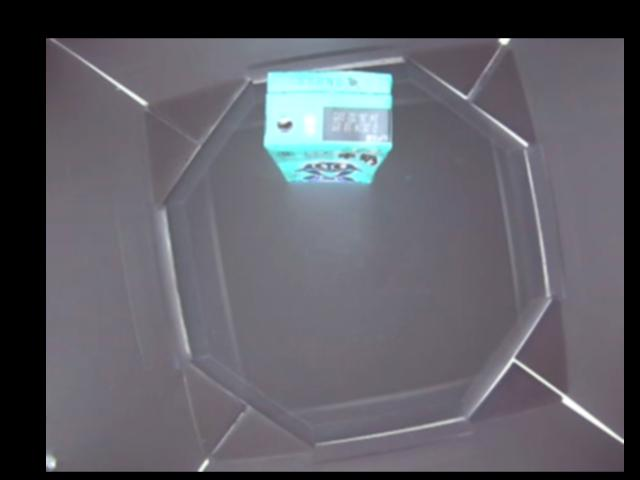Bottle: (266, 68, 394, 184)
